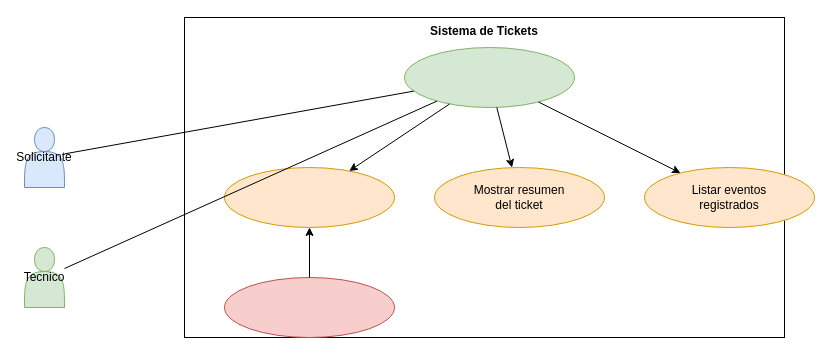
The diagram is 832 pixels wide and 355 high, and some of its shapes have lost their labels. Here are the shapes that lost their labels. From the top down, the centre of each, then its label:
the point at 489,77: Consultar Bitacora
the point at 309,197: Buscar ticket por numero
the point at 309,307: Notificar ticket no encontrado
